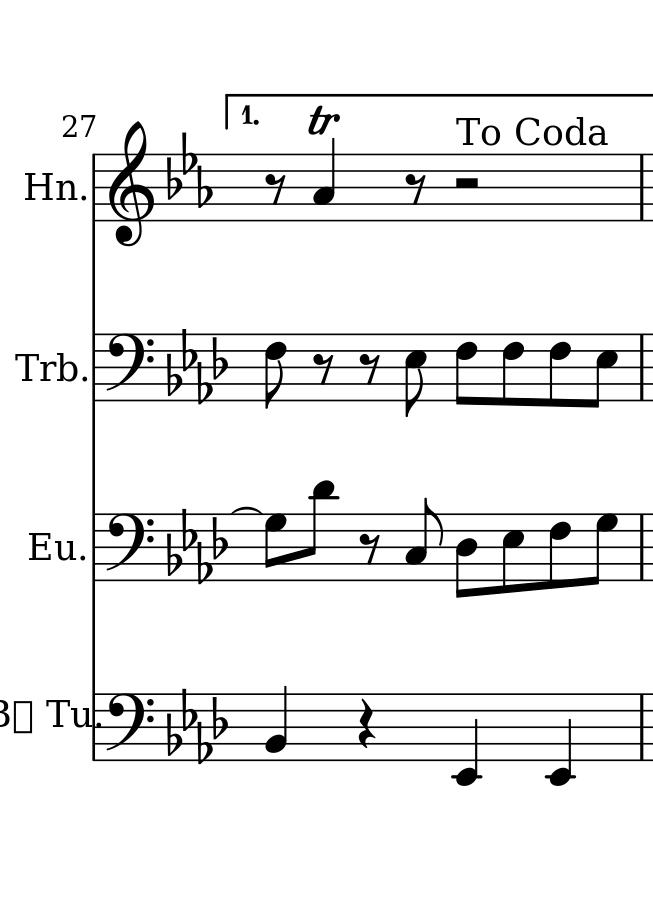2: (60, 114, 80, 139)
4_-2: (453, 692, 480, 787), (547, 692, 573, 787)
4_2: (264, 685, 289, 762)
4_3: (311, 139, 337, 220)
7: (79, 111, 97, 139)
8_11: (303, 477, 335, 585)
8_3: (404, 497, 442, 582)
8_4: (454, 513, 479, 600)
8_5: (586, 331, 619, 410), (402, 332, 428, 418), (500, 512, 526, 595)
8_6: (547, 511, 572, 592), (263, 332, 289, 409), (501, 331, 526, 407), (454, 332, 479, 407), (548, 330, 571, 409)
8_7: (587, 511, 617, 587), (263, 511, 288, 581)
A_F: (165, 504, 227, 584), (163, 330, 228, 404), (165, 689, 224, 763)
E_F: (165, 131, 213, 209)
Fclef: (104, 331, 154, 403), (104, 512, 154, 583), (104, 692, 154, 763)
Gclef: (109, 121, 154, 247)
Hn: (26, 171, 78, 207)
Prima_volta: (219, 88, 653, 131)
Rests2: (452, 176, 482, 192)
Rests4: (356, 697, 377, 751)
Rests8: (264, 171, 288, 206), (312, 351, 335, 385), (359, 531, 382, 564), (359, 351, 381, 385), (405, 172, 427, 205)
Single_barline: (87, 514, 102, 580), (635, 155, 650, 220), (88, 334, 102, 401), (635, 694, 649, 761), (88, 154, 100, 221)
Slur: (87, 693, 103, 761), (231, 505, 262, 516)
ToCoda: (454, 112, 605, 149)
Trb: (14, 346, 77, 384)
Trill: (303, 103, 341, 138)
